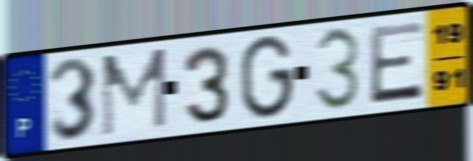3: (48, 55, 101, 143), (312, 24, 362, 114), (181, 43, 231, 126)
E: (367, 18, 426, 107)
G: (238, 33, 296, 122)
M: (99, 45, 169, 140)
